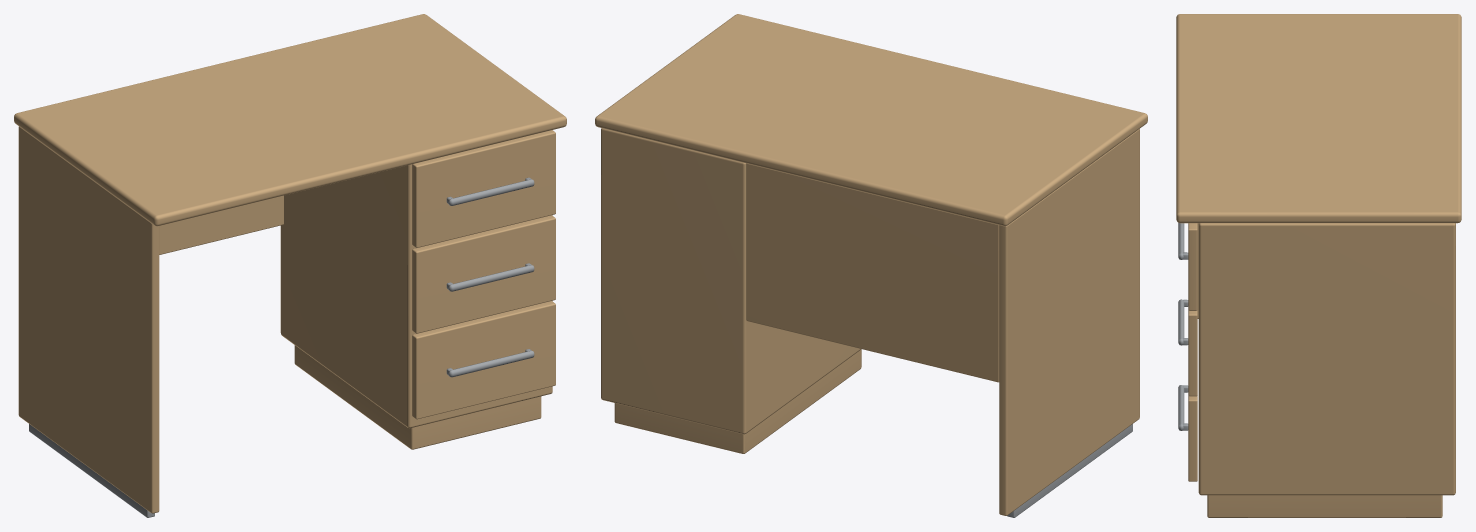
Rendered from original-desk.glb.
3 views of the same model, side by side, from view 1: azimuth 30°, elevation 25°; view 2: azimuth 150°, elevation 25°; view 3: azimuth 270°, elevation 25° (orthographic).
Visible parts, largest first — view 1: original-desk; view 2: original-desk; view 3: original-desk.
Part boxes in pixels (x1=…): original-desk: x1=14, y1=14, x2=566, y2=517; original-desk: x1=595, y1=14, x2=1147, y2=517; original-desk: x1=1176, y1=14, x2=1461, y2=517.
Bounding box in the file's own units: 1 × 0.72 × 0.6.
